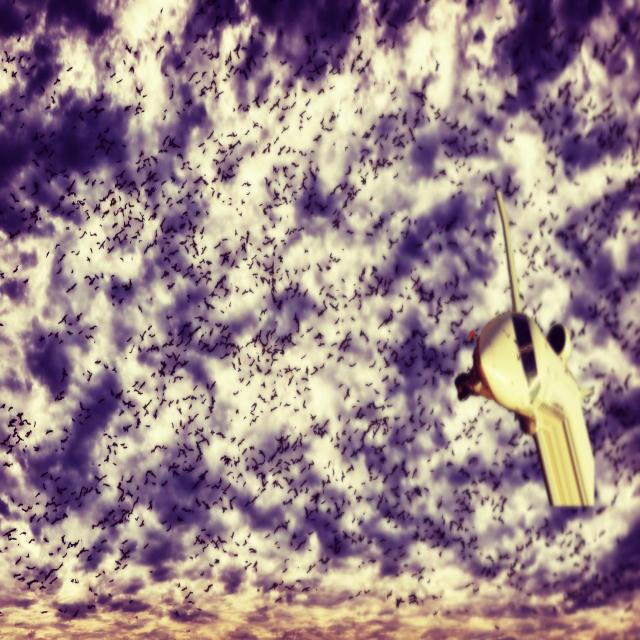airplane: (454, 188, 596, 510)
